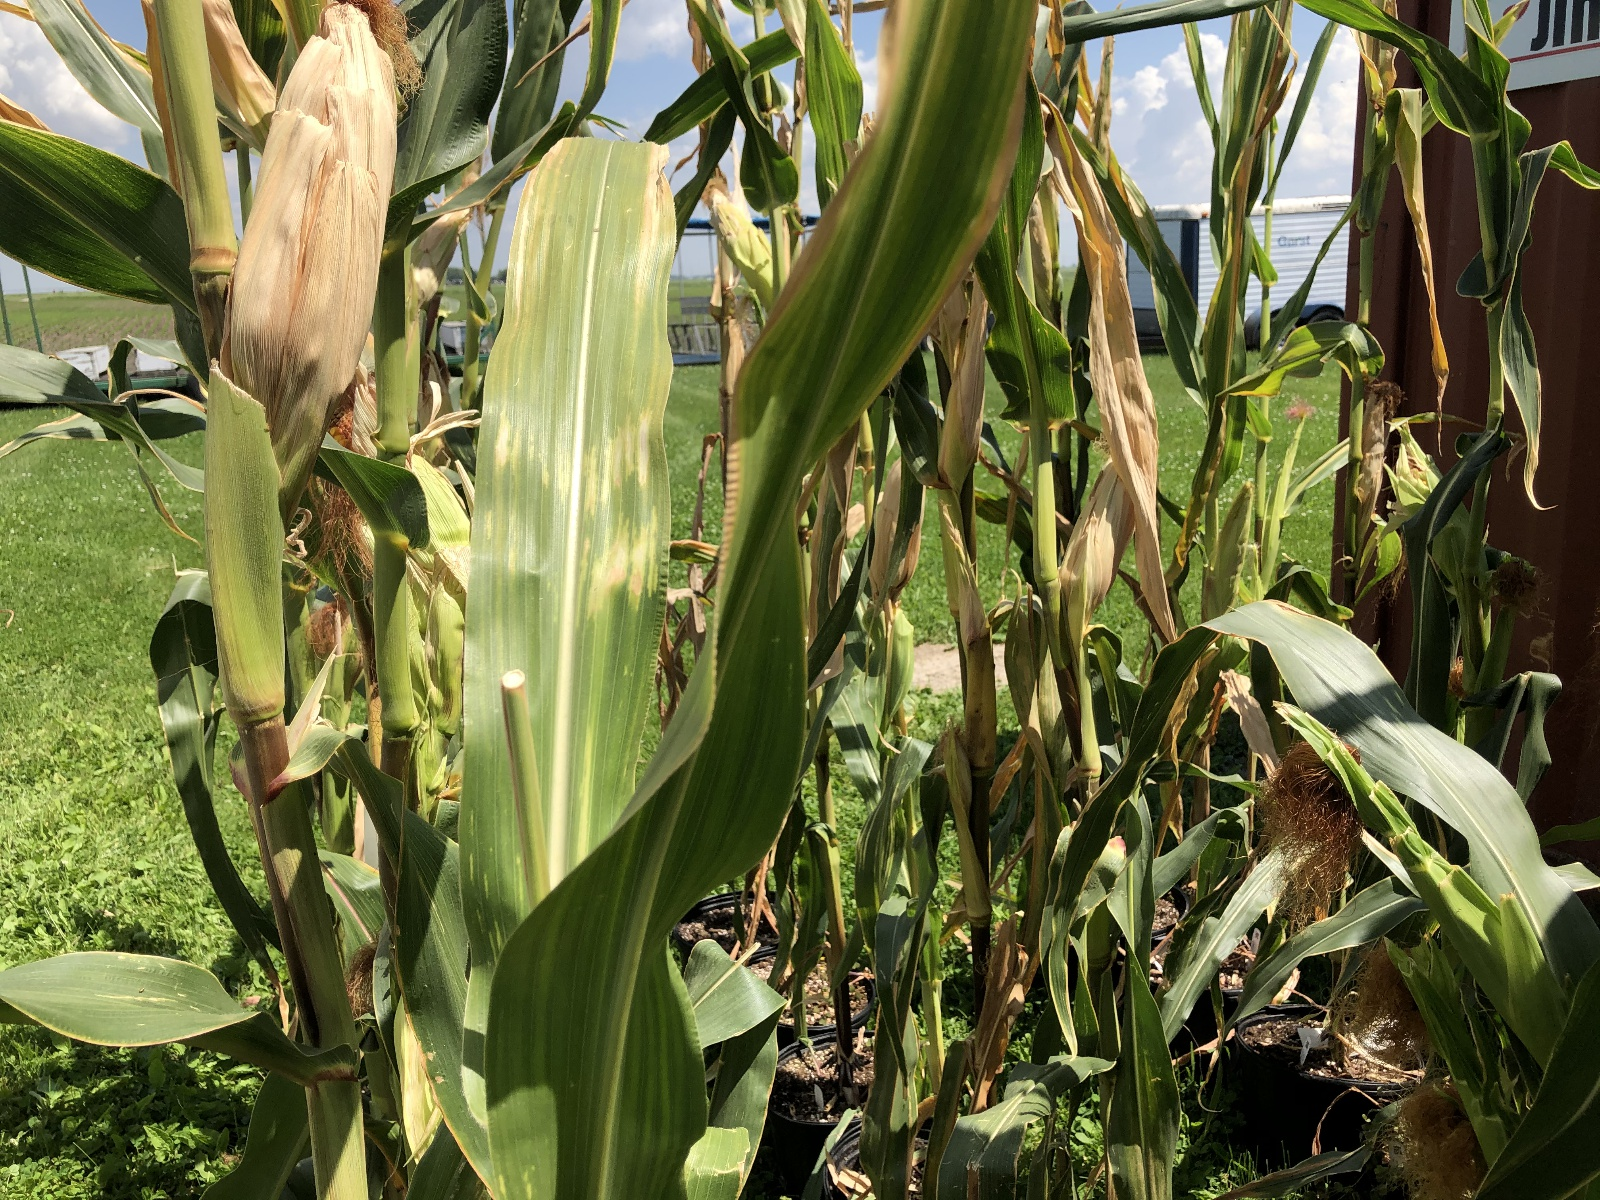ear: (217, 8, 408, 396), (1062, 424, 1126, 610), (695, 170, 779, 284), (1348, 372, 1403, 507)
